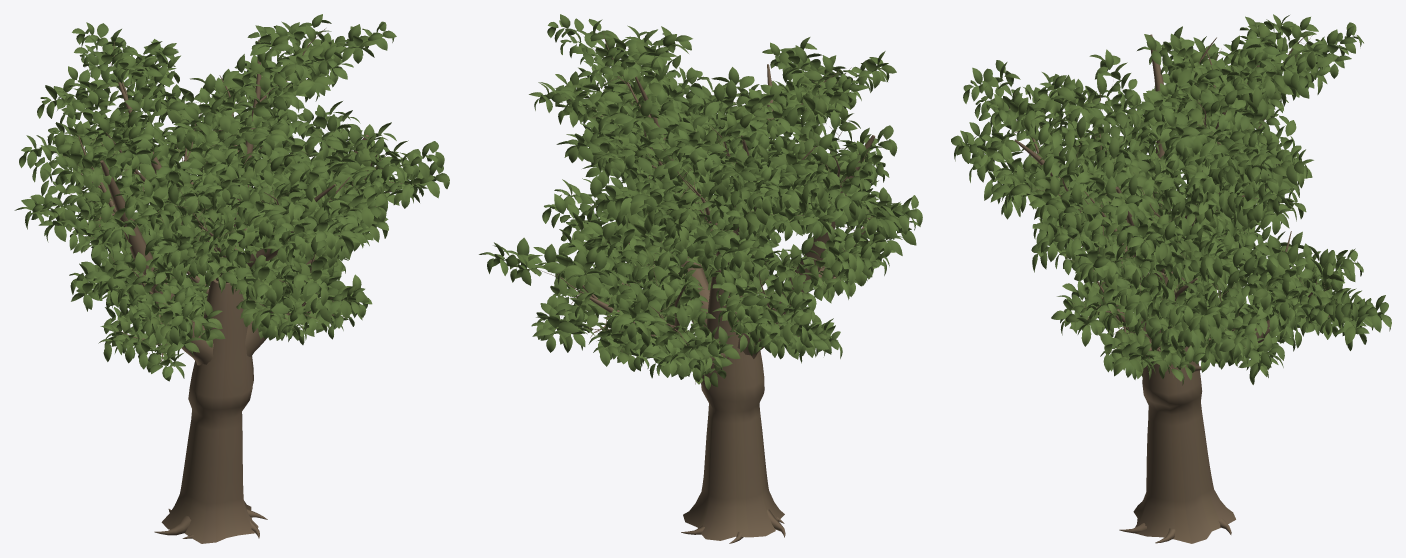
File: corealm_oak_1.glb
3 views of the same model, side by side, from view 1: azimuth 30°, elevation 25°; view 2: azimuth 150°, elevation 25°; view 3: azimuth 270°, elevation 25° (orthographic). The views are drawn at different scales.
Visible parts, largest first — view 1: corealm_oak_1; view 2: corealm_oak_1; view 3: corealm_oak_1.
Part boxes in pixels (left/top/right/bottom): corealm_oak_1: left=14, top=14, right=449, bottom=543; corealm_oak_1: left=479, top=14, right=922, bottom=543; corealm_oak_1: left=951, top=14, right=1391, bottom=543.
Size of the model in its own units: 6.81 by 7.95 by 6.41.
